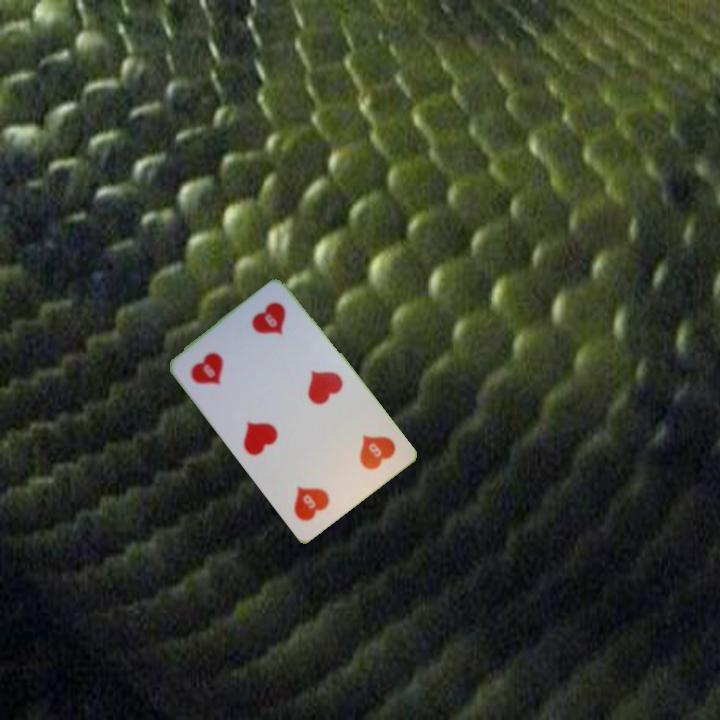h_6.png: (319, 409, 405, 494), (178, 325, 264, 409)
